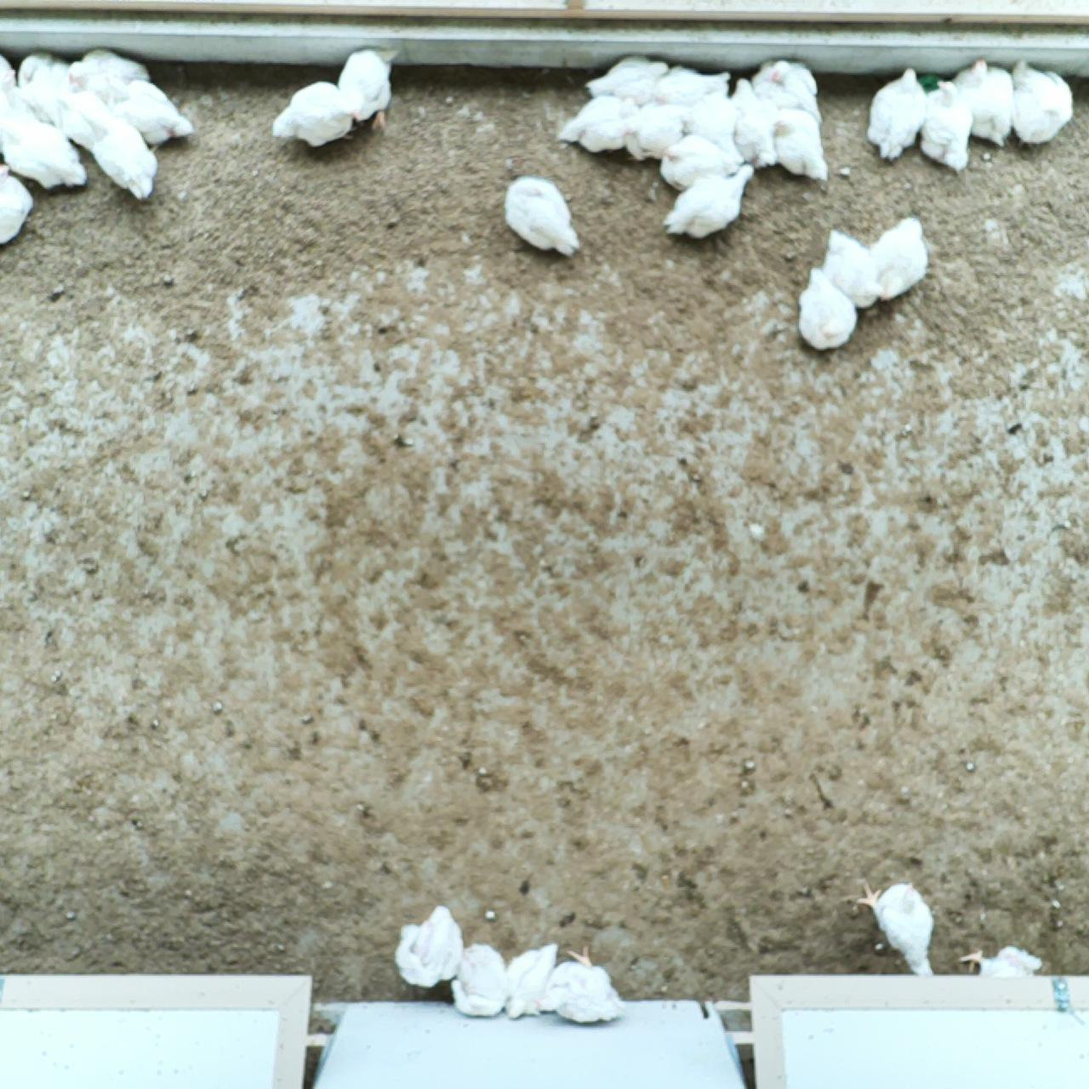chicken: (860, 879, 936, 974), (536, 947, 631, 1023), (88, 106, 160, 203), (664, 164, 755, 240), (506, 174, 580, 257), (0, 117, 86, 188), (106, 77, 193, 147), (949, 58, 1015, 145), (395, 905, 462, 988), (274, 78, 353, 147), (1012, 62, 1075, 148), (866, 66, 923, 159), (868, 215, 929, 298), (920, 79, 976, 169), (339, 50, 401, 130), (822, 232, 887, 308), (799, 269, 859, 351), (26, 79, 106, 140), (768, 105, 830, 183), (681, 94, 751, 162), (731, 81, 779, 174), (560, 96, 638, 153), (625, 102, 698, 161), (753, 58, 823, 119), (450, 942, 507, 1016), (65, 47, 149, 97), (502, 943, 555, 1018), (659, 133, 740, 181), (586, 57, 662, 106), (960, 942, 1044, 981), (656, 62, 727, 106), (18, 51, 83, 94), (0, 164, 32, 247), (0, 65, 36, 122), (0, 49, 15, 80)
